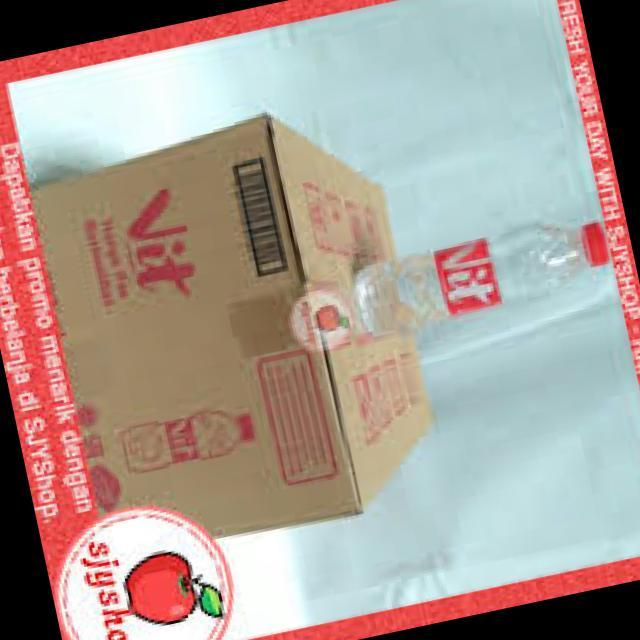good: (321, 184, 625, 372)
